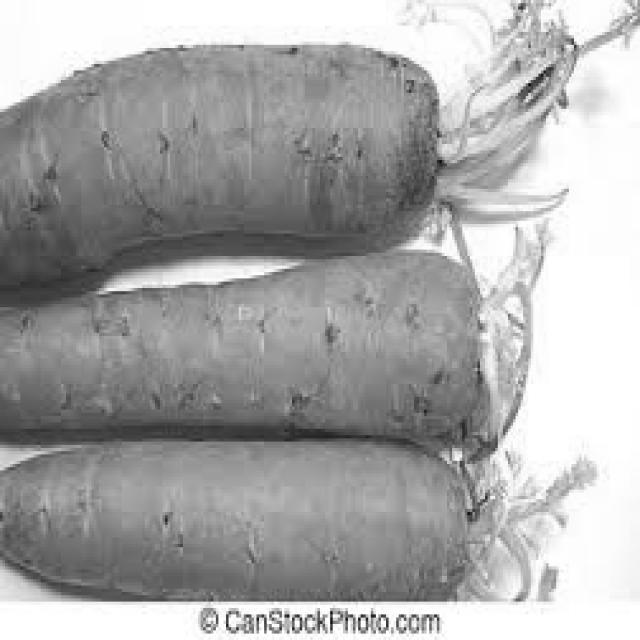Stale_Carrot: (0, 50, 460, 285), (0, 253, 479, 443)
